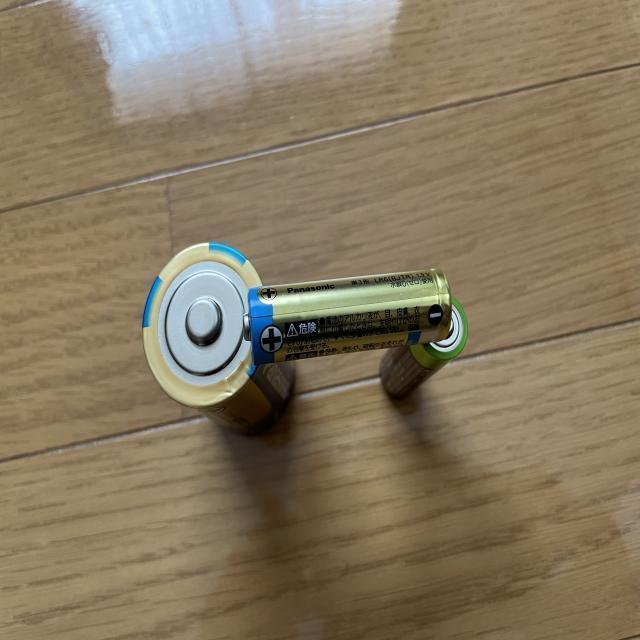Hazard: (142, 238, 301, 438), (242, 263, 453, 369), (374, 292, 471, 406)
